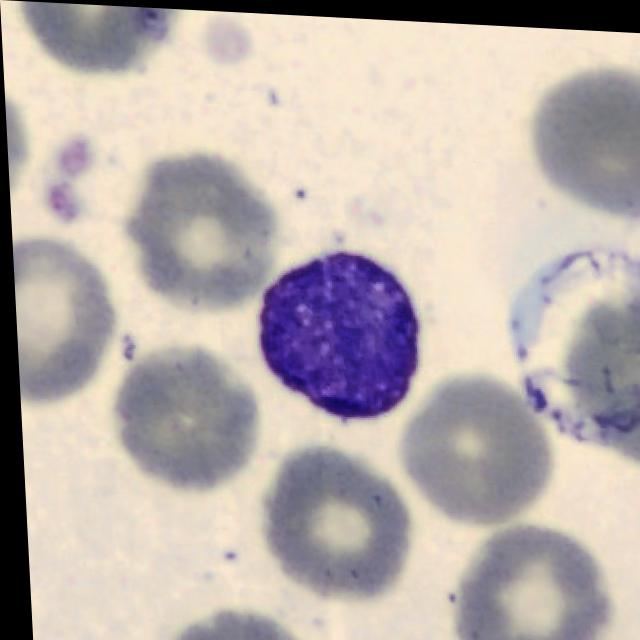Linfocito: (253, 248, 416, 419)
